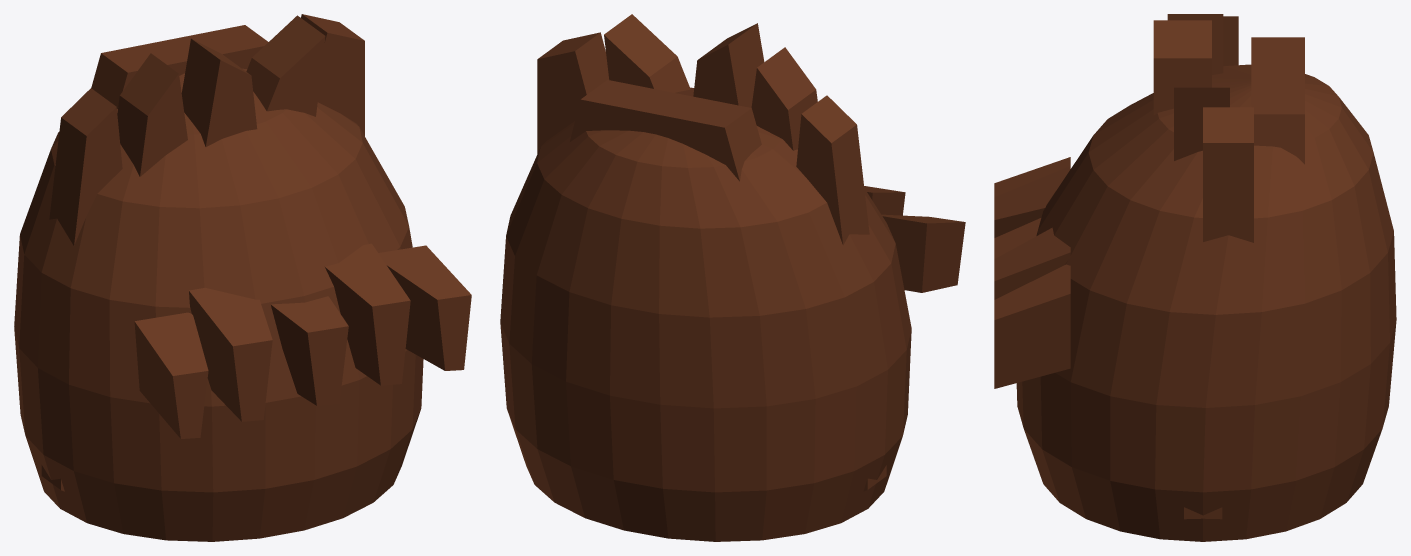
File: hair_boy_textured_crop_01.glb
The picture shows the model from 3 angles, left to right: view 1: azimuth 30°, elevation 25°; view 2: azimuth 150°, elevation 25°; view 3: azimuth 270°, elevation 25°; orthographic projection.
Parts seen in each view (by area): view 1: TexturedCrop_Cap, TexturedCrop_Fringe_LC, TexturedCrop_Fringe_RC, TexturedCrop_Top_L, TexturedCrop_Fringe_L, TexturedCrop_Fringe_R, TexturedCrop_Fringe_C, TexturedCrop_Top_LC, TexturedCrop_Top_C, TexturedCrop_Top_RC, TexturedCrop_Top_Back, TexturedCrop_Top_R; view 2: TexturedCrop_Cap, TexturedCrop_Top_Back, TexturedCrop_Top_L, TexturedCrop_Top_R, TexturedCrop_Fringe_L, TexturedCrop_Top_RC, TexturedCrop_Top_LC, TexturedCrop_Top_C, TexturedCrop_Fringe_LC; view 3: TexturedCrop_Cap, TexturedCrop_Fringe_R, TexturedCrop_Top_R, TexturedCrop_Top_Back, TexturedCrop_Top_C, TexturedCrop_Fringe_RC, TexturedCrop_Top_RC, TexturedCrop_Fringe_LC, TexturedCrop_Top_LC, TexturedCrop_Fringe_L, TexturedCrop_Fringe_C, TexturedCrop_Top_L.
Part boxes in pixels (x1,y1,x2,y2): TexturedCrop_Cap: [14, 68, 423, 541]; TexturedCrop_Fringe_LC: [189, 287, 272, 421]; TexturedCrop_Fringe_RC: [325, 243, 410, 385]; TexturedCrop_Top_L: [49, 88, 122, 245]; TexturedCrop_Fringe_L: [134, 312, 208, 438]; TexturedCrop_Fringe_R: [378, 245, 471, 370]; TexturedCrop_Fringe_C: [270, 296, 348, 405]; TexturedCrop_Top_LC: [117, 53, 187, 176]; TexturedCrop_Top_C: [181, 38, 257, 146]; TexturedCrop_Top_RC: [246, 15, 325, 116]; TexturedCrop_Top_Back: [91, 25, 268, 109]; TexturedCrop_Top_R: [301, 14, 364, 135]; TexturedCrop_Cap: [500, 87, 911, 541]; TexturedCrop_Top_Back: [570, 80, 761, 181]; TexturedCrop_Top_L: [796, 95, 869, 245]; TexturedCrop_Top_R: [537, 32, 609, 153]; TexturedCrop_Fringe_L: [882, 214, 965, 292]; TexturedCrop_Top_RC: [604, 14, 690, 92]; TexturedCrop_Top_LC: [751, 47, 817, 150]; TexturedCrop_Top_C: [693, 23, 764, 107]; TexturedCrop_Fringe_LC: [864, 186, 905, 215]; TexturedCrop_Cap: [1016, 64, 1396, 541]; TexturedCrop_Fringe_R: [994, 264, 1070, 388]; TexturedCrop_Top_R: [1203, 107, 1253, 242]; TexturedCrop_Top_Back: [1251, 37, 1304, 164]; TexturedCrop_Top_C: [1153, 20, 1211, 115]; TexturedCrop_Fringe_RC: [994, 227, 1070, 299]; TexturedCrop_Top_RC: [1174, 87, 1229, 160]; TexturedCrop_Fringe_LC: [994, 166, 1070, 237]; TexturedCrop_Top_LC: [1167, 14, 1223, 74]; TexturedCrop_Fringe_L: [994, 157, 1070, 197]; TexturedCrop_Fringe_C: [994, 218, 1041, 258]; TexturedCrop_Top_L: [1223, 16, 1238, 66].
Bounding box in the file's own units: 0.328 × 0.374 × 0.316.
